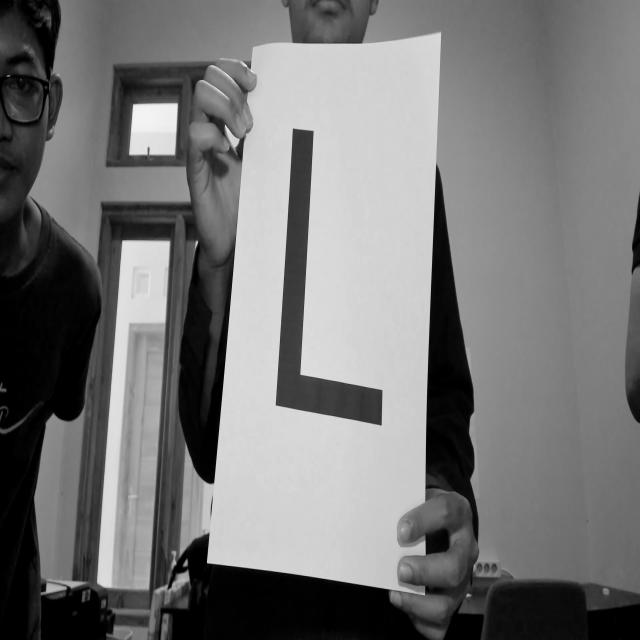l: (243, 87, 413, 504)
